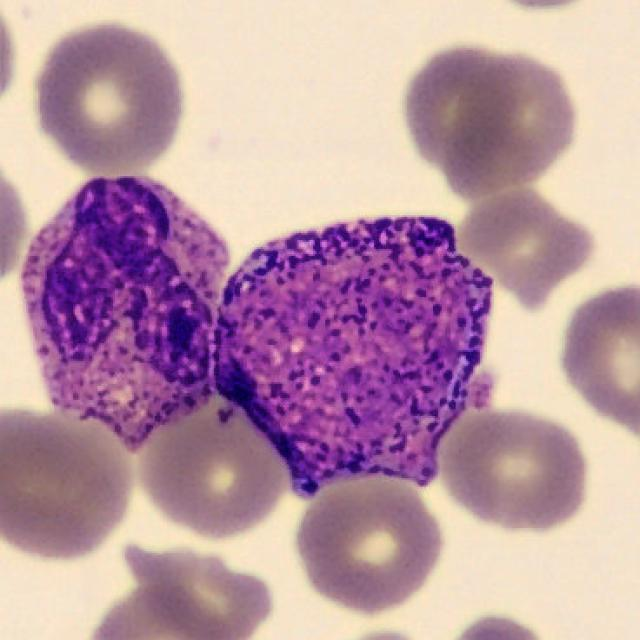Neutrofilo segmentado: (23, 178, 230, 455)
Promielocito: (214, 220, 494, 500)
